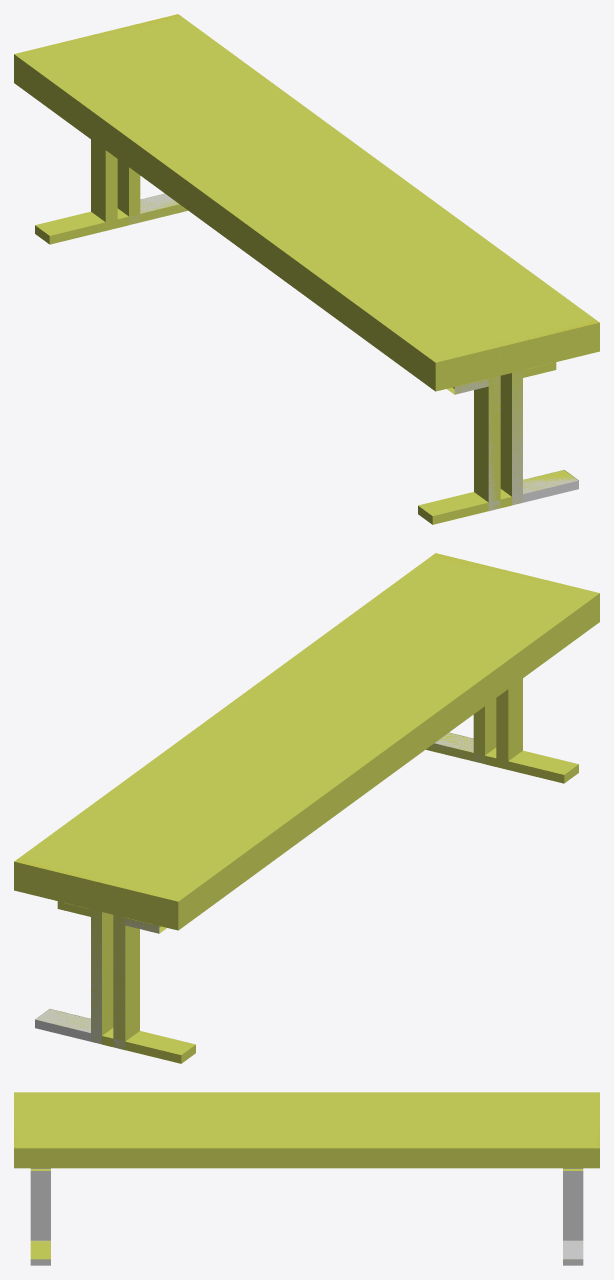
File: table classe color .fbx
3 views of the same model, one above another, from view 1: azimuth 30°, elevation 25°; view 2: azimuth 150°, elevation 25°; view 3: azimuth 270°, elevation 25° (orthographic). The views are drawn at different scales.
Visible parts, largest first — view 1: Cube; view 2: Cube; view 3: Cube.
Part boxes in pixels (bbox=[...]): Cube: bbox=[14, 14, 599, 524]; Cube: bbox=[14, 553, 599, 1063]; Cube: bbox=[14, 1092, 599, 1265].
Size of the model in its own units: 1.72 by 1.73 by 7.65.
